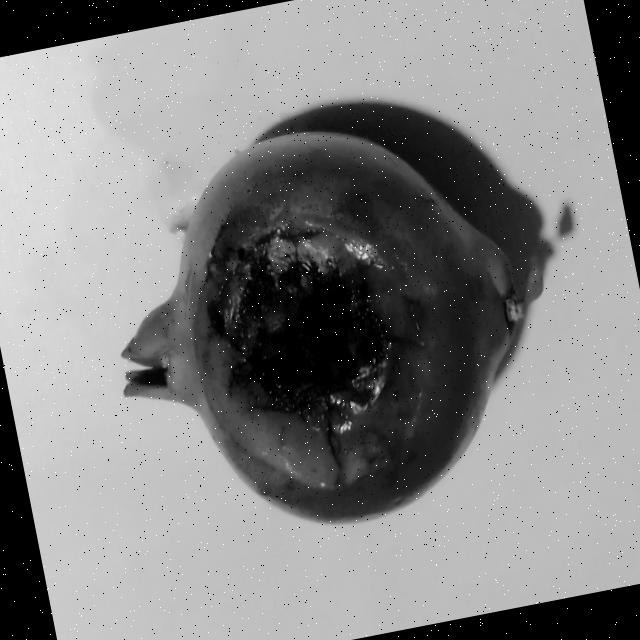Rotten: (76, 90, 577, 567)
